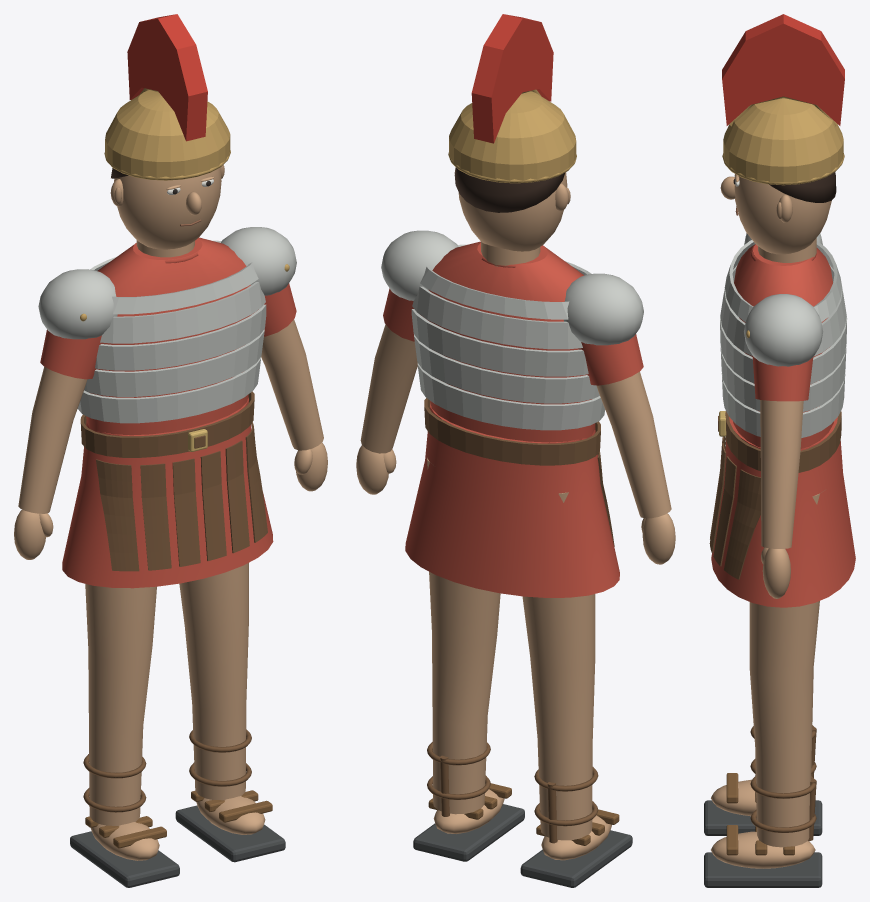
Rendered from soldier_roman_1.glb.
3 views of the same model, side by side, from view 1: azimuth 30°, elevation 25°; view 2: azimuth 150°, elevation 25°; view 3: azimuth 270°, elevation 25° (orthographic).
Parts seen in each view (by area): view 1: Roman_Soldier_1_Bare_Leg, Roman_Soldier_1_Bare_Leg.001, Roman_Soldier_1_Roman_Short_Red_Tunic, Roman_Soldier_1_Torso_And_Main_Clothes, Roman_Soldier_1_Open_Face_Helmet, Roman_Soldier_1_Attached_Red_Crest, Roman_Soldier_1_Head, Roman_Soldier_1_Arm_Skin, Roman_Soldier_1_Roman_Torso_Armor_Band, Roman_Soldier_1_Arm_Skin.001, Roman_Soldier_1_Roman_Torso_Armor_Band.001, Roman_Soldier_1_Roman_Torso_Armor_Band.002 (+19 smaller); view 2: Roman_Soldier_1_Roman_Short_Red_Tunic, Roman_Soldier_1_Bare_Leg, Roman_Soldier_1_Bare_Leg.001, Roman_Soldier_1_Torso_And_Main_Clothes, Roman_Soldier_1_Open_Face_Helmet, Roman_Soldier_1_Attached_Red_Crest, Roman_Soldier_1_Arm_Skin, Roman_Soldier_1_Roman_Torso_Armor_Band, Roman_Soldier_1_Roman_Torso_Armor_Band.001, Roman_Soldier_1_Roman_Torso_Armor_Band.002, Roman_Soldier_1_Rounded_Shoulder_Armor, Roman_Soldier_1_Roman_Torso_Armor_Band.003 (+15 smaller); view 3: Roman_Soldier_1_Bare_Leg.001, Roman_Soldier_1_Roman_Short_Red_Tunic, Roman_Soldier_1_Attached_Red_Crest, Roman_Soldier_1_Open_Face_Helmet, Roman_Soldier_1_Arm_Skin.001, Roman_Soldier_1_Rounded_Shoulder_Armor.001, Roman_Soldier_1_Torso_And_Main_Clothes, Roman_Soldier_1_Head, Roman_Soldier_1_Shoe_Sole.001, Roman_Soldier_1_Roman_Leather_Skirt_Strip.005, Roman_Soldier_1_Short_Sleeve.001, Roman_Soldier_1_Roman_Torso_Armor_Band (+18 smaller).
Boxes of the visible parts, left/top/right/bottom form: Roman_Soldier_1_Bare_Leg: left=85, top=584, right=156, bottom=825; Roman_Soldier_1_Bare_Leg.001: left=179, top=563, right=248, bottom=800; Roman_Soldier_1_Roman_Short_Red_Tunic: left=62, top=397, right=273, bottom=588; Roman_Soldier_1_Torso_And_Main_Clothes: left=86, top=237, right=257, bottom=435; Roman_Soldier_1_Open_Face_Helmet: left=105, top=90, right=230, bottom=179; Roman_Soldier_1_Attached_Red_Crest: left=127, top=14, right=207, bottom=141; Roman_Soldier_1_Head: left=114, top=168, right=221, bottom=249; Roman_Soldier_1_Arm_Skin: left=18, top=367, right=87, bottom=513; Roman_Soldier_1_Roman_Torso_Armor_Band: left=77, top=357, right=260, bottom=423; Roman_Soldier_1_Arm_Skin.001: left=261, top=319, right=323, bottom=450; Roman_Soldier_1_Roman_Torso_Armor_Band.001: left=84, top=329, right=264, bottom=396; Roman_Soldier_1_Roman_Torso_Armor_Band.002: left=95, top=304, right=266, bottom=370; Roman_Soldier_1_Roman_Short_Red_Tunic: left=405, top=403, right=619, bottom=597; Roman_Soldier_1_Bare_Leg: left=522, top=492, right=595, bottom=840; Roman_Soldier_1_Bare_Leg.001: left=427, top=458, right=500, bottom=814; Roman_Soldier_1_Torso_And_Main_Clothes: left=421, top=241, right=595, bottom=442; Roman_Soldier_1_Open_Face_Helmet: left=449, top=91, right=576, bottom=182; Roman_Soldier_1_Attached_Red_Crest: left=471, top=14, right=553, bottom=143; Roman_Soldier_1_Arm_Skin: left=596, top=371, right=671, bottom=518; Roman_Soldier_1_Roman_Torso_Armor_Band: left=417, top=363, right=605, bottom=430; Roman_Soldier_1_Roman_Torso_Armor_Band.001: left=414, top=334, right=599, bottom=403; Roman_Soldier_1_Roman_Torso_Armor_Band.002: left=411, top=309, right=588, bottom=376; Roman_Soldier_1_Rounded_Shoulder_Armor: left=563, top=273, right=643, bottom=345; Roman_Soldier_1_Roman_Torso_Armor_Band.003: left=412, top=286, right=582, bottom=349; Roman_Soldier_1_Bare_Leg.001: left=749, top=490, right=824, bottom=847; Roman_Soldier_1_Roman_Short_Red_Tunic: left=711, top=417, right=855, bottom=607; Roman_Soldier_1_Attached_Red_Crest: left=722, top=14, right=844, bottom=125; Roman_Soldier_1_Open_Face_Helmet: left=723, top=98, right=843, bottom=183; Roman_Soldier_1_Arm_Skin.001: left=760, top=400, right=803, bottom=548; Roman_Soldier_1_Rounded_Shoulder_Armor.001: left=744, top=294, right=823, bottom=366; Roman_Soldier_1_Torso_And_Main_Clothes: left=733, top=244, right=833, bottom=448; Roman_Soldier_1_Head: left=734, top=174, right=831, bottom=254; Roman_Soldier_1_Shoe_Sole.001: left=704, top=852, right=822, bottom=887; Roman_Soldier_1_Roman_Leather_Skirt_Strip.005: left=724, top=469, right=760, bottom=579; Roman_Soldier_1_Short_Sleeve.001: left=752, top=356, right=813, bottom=401; Roman_Soldier_1_Roman_Torso_Armor_Band: left=721, top=372, right=845, bottom=437.
Bounding box in the file's own units: 0.7173 × 1.82 × 0.3011.
